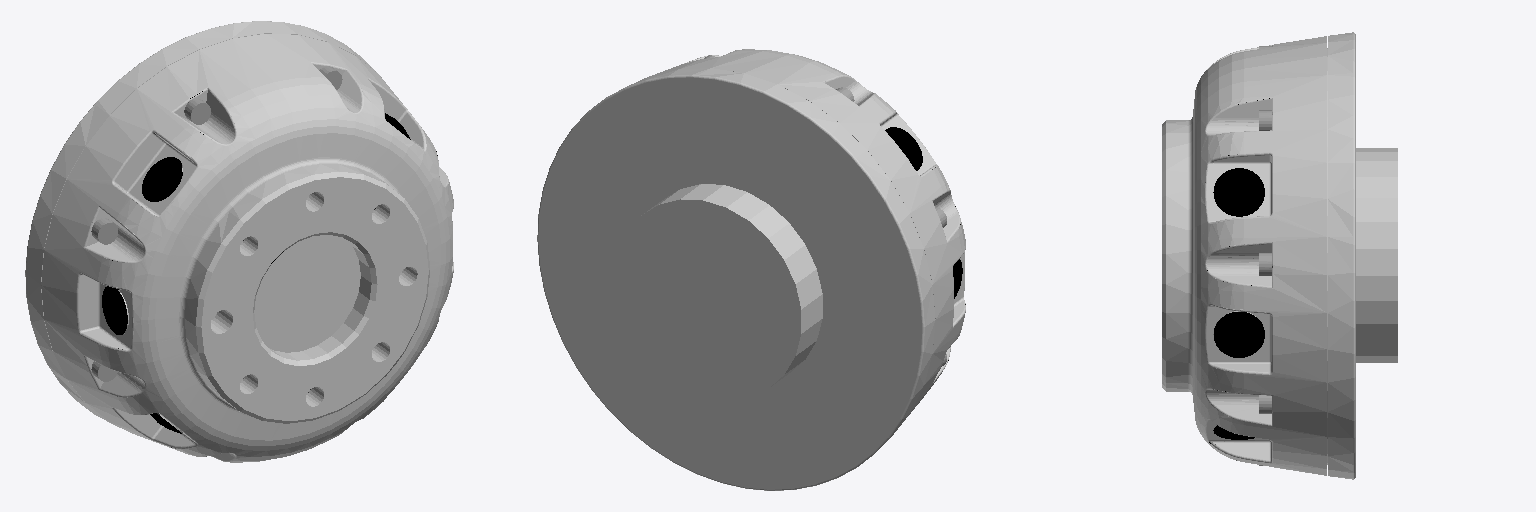
3 views of the same model, side by side, from view 1: azimuth 30°, elevation 25°; view 2: azimuth 150°, elevation 25°; view 3: azimuth 270°, elevation 25° (orthographic).
Visible parts, largest first — view 1: Link7_14_ShapeIndexedFaceSet.007; view 2: Link7_14_ShapeIndexedFaceSet.007; view 3: Link7_14_ShapeIndexedFaceSet.007.
Part boxes in pixels (left/top/right/bottom): Link7_14_ShapeIndexedFaceSet.007: left=25, top=21, right=453, bottom=462; Link7_14_ShapeIndexedFaceSet.007: left=537, top=49, right=965, bottom=490; Link7_14_ShapeIndexedFaceSet.007: left=1162, top=32, right=1397, bottom=479.
Bounding box in the file's own units: 0.1039 × 0.1038 × 0.0549.
1 materials, 1 textured.